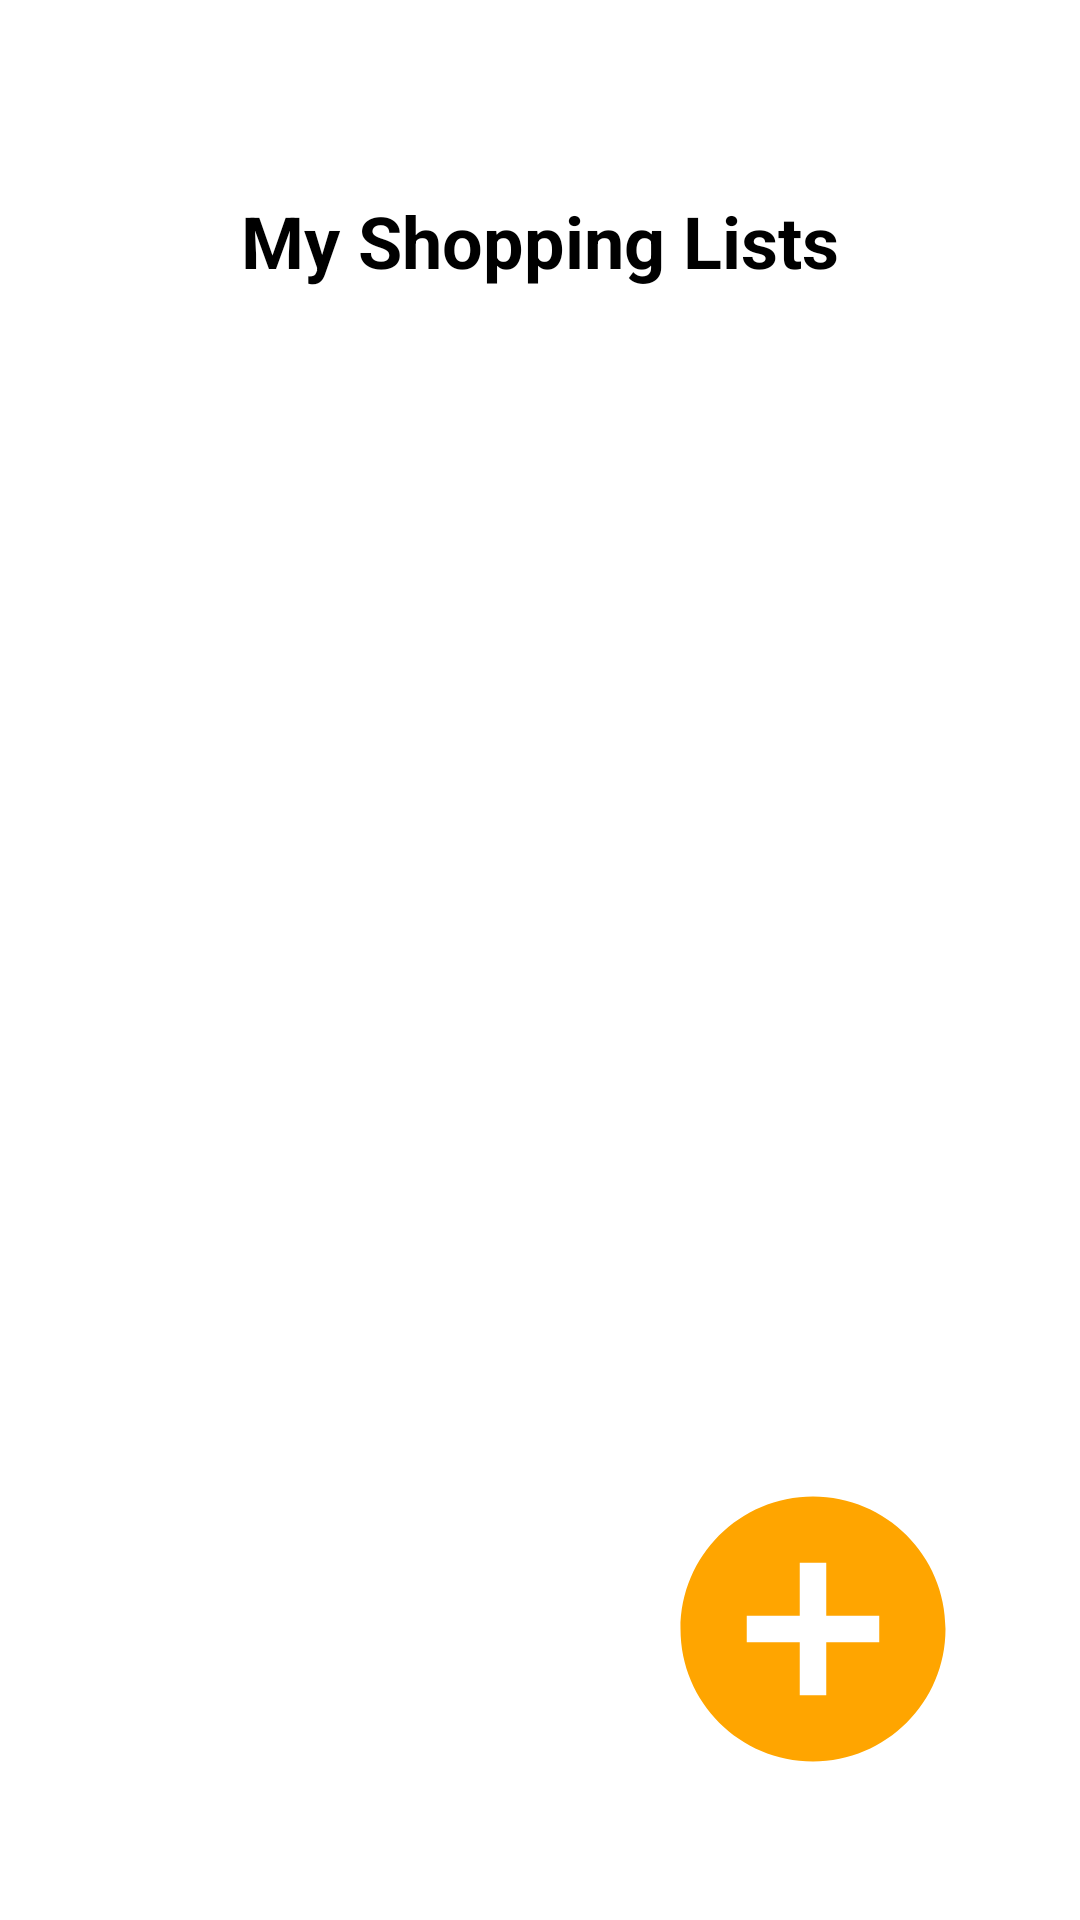

Named icons in this screenshot (1080*1920) and their centers, [x,y]:
add: [813,1629]
